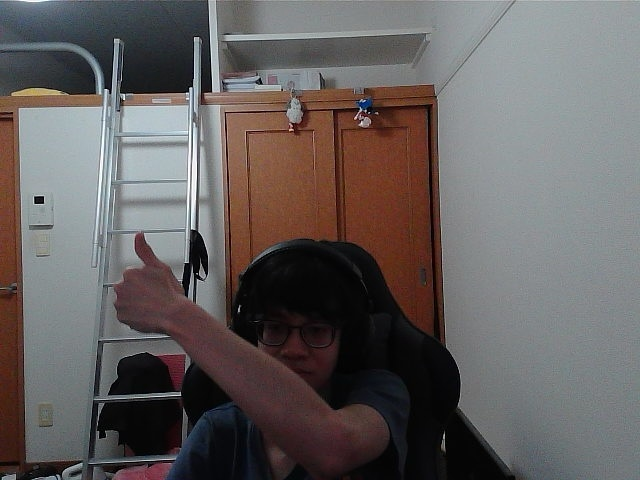thumb_up: (118, 235, 172, 318)
